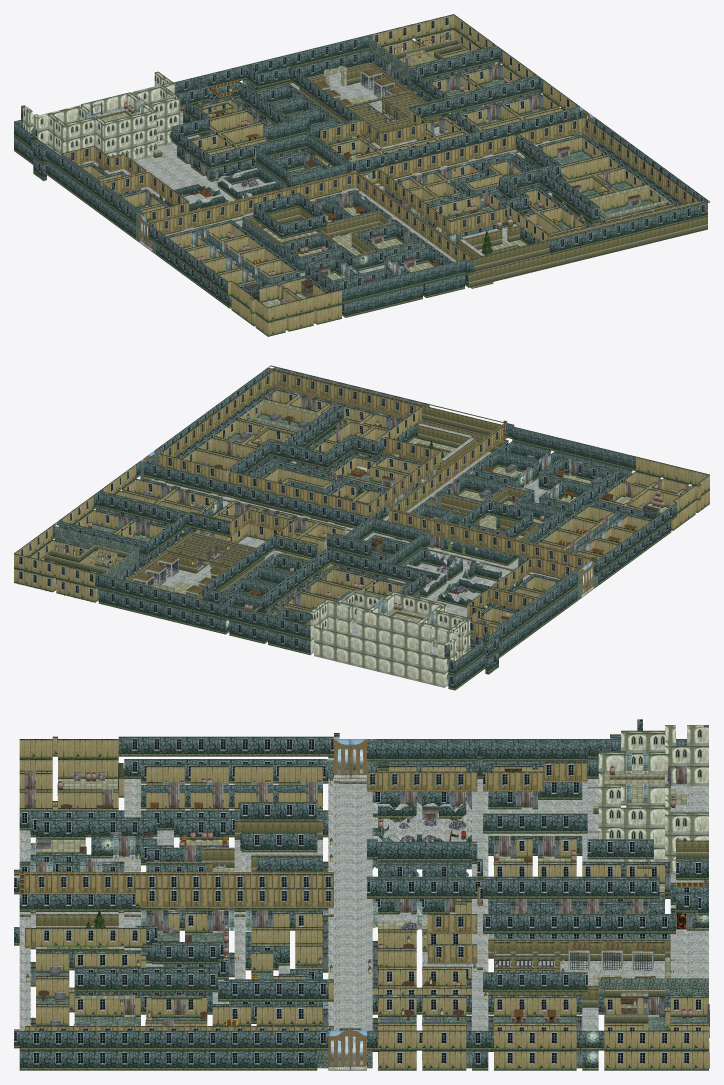
File: dstar_e.gltf
3 renders of one model, top to bottom at view 1: azimuth 30°, elevation 25°; view 2: azimuth 150°, elevation 25°; view 3: azimuth 270°, elevation 25°, orthographic. The views are drawn at different scales.
Size of the model in its own units: 127 by 19 by 126.
Materials: 51 (51 with a texture image).
